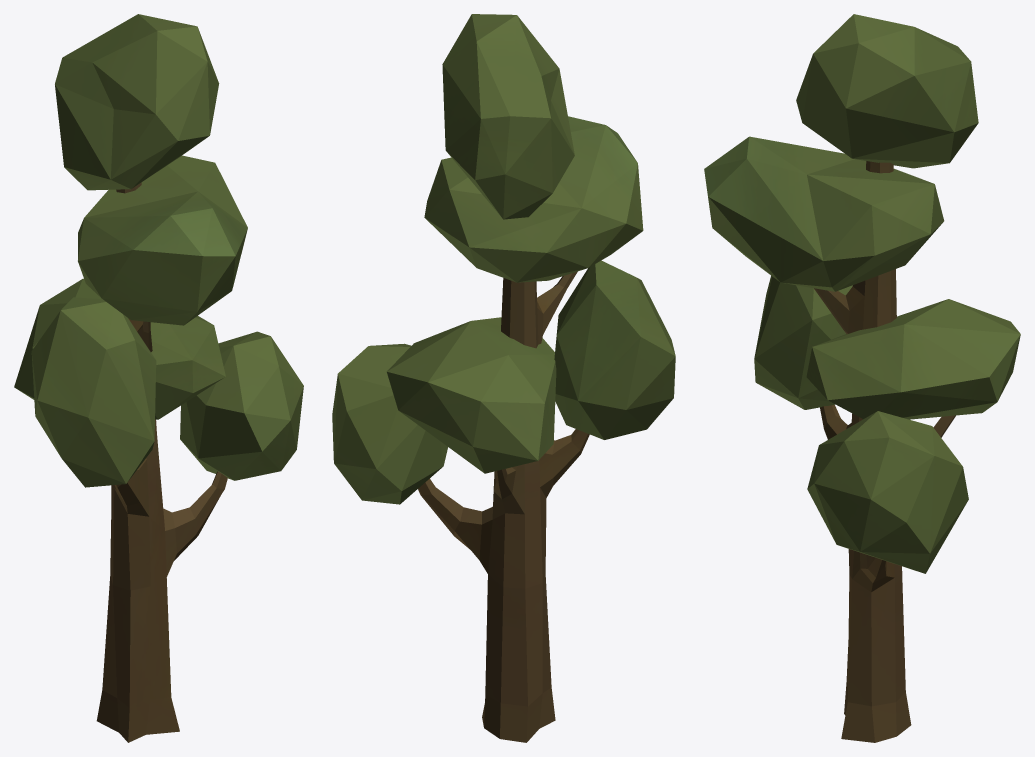
Rendered from Tree4.fbx.
The picture shows the model from 3 angles, left to right: view 1: azimuth 30°, elevation 25°; view 2: azimuth 150°, elevation 25°; view 3: azimuth 270°, elevation 25°; orthographic projection. The views are drawn at different scales.
Visible parts, largest first — view 1: Tree4; view 2: Tree4; view 3: Tree4.
Boxes of the visible parts, <box> form: Tree4: <box>14,14,303,742</box>; Tree4: <box>332,14,675,742</box>; Tree4: <box>704,14,1020,742</box>.
Bounding box in the file's own units: 169 × 380 × 152.
